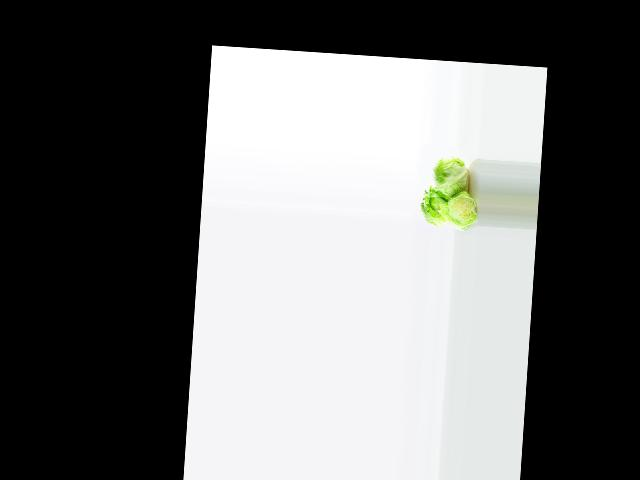lettuce: (416, 183, 452, 227)
